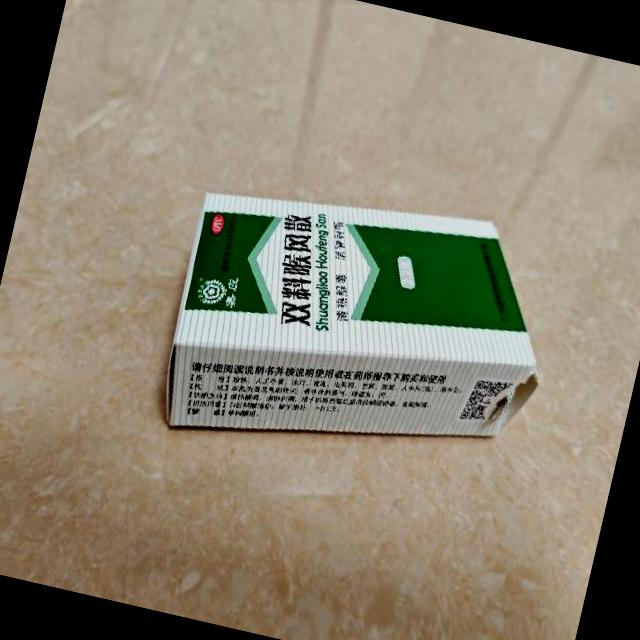box: (152, 156, 569, 507)
